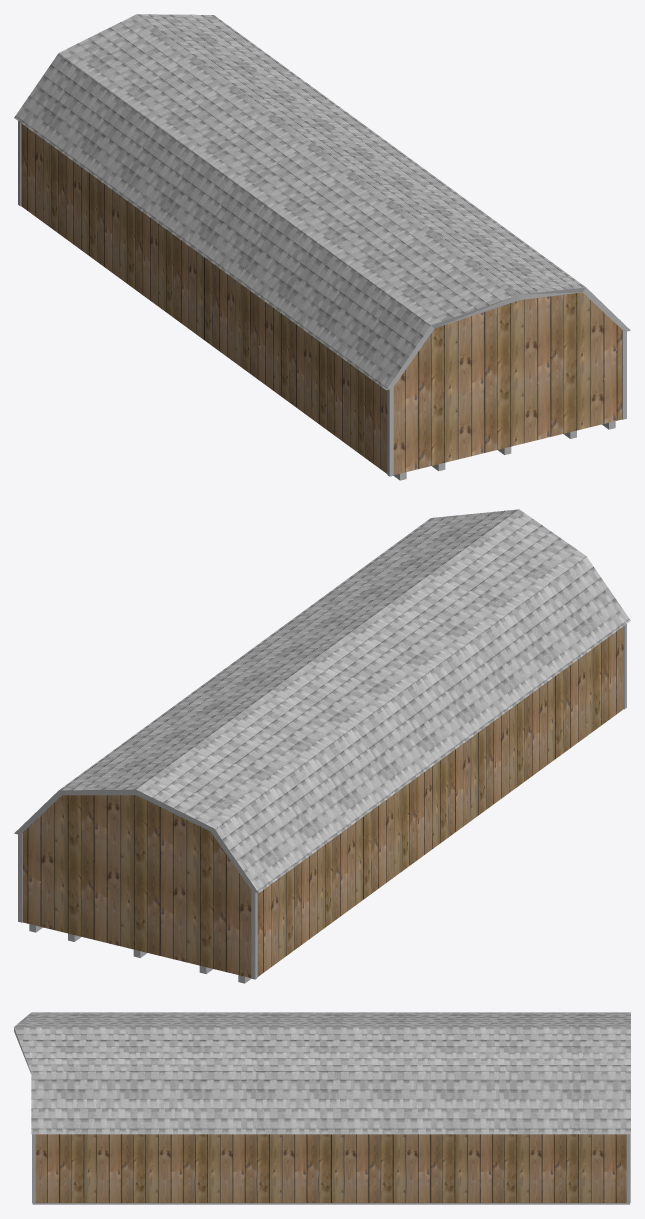
Rendered from Mini Barn Sheds_12x32.obj.
3 views of the same model, one above another, from view 1: azimuth 30°, elevation 25°; view 2: azimuth 150°, elevation 25°; view 3: azimuth 270°, elevation 25° (orthographic). The views are drawn at different scales.
Visible parts, largest first — view 1: Roof, Shed, Sides, Trim; view 2: Roof, Shed, Sides, Trim; view 3: Roof, Shed, Floor, Trim.
Boxes of the visible parts, <box> form: Roof: <box>14,14,585,389</box>; Shed: <box>21,123,622,474</box>; Sides: <box>386,287,630,389</box>; Trim: <box>18,121,626,476</box>; Roof: <box>59,509,630,892</box>; Shed: <box>22,626,623,977</box>; Sides: <box>14,789,258,892</box>; Trim: <box>18,624,626,979</box>; Roof: <box>14,1012,630,1134</box>; Shed: <box>35,1134,626,1202</box>; Floor: <box>32,1203,629,1204</box>; Trim: <box>32,1134,630,1203</box>.
Size of the model in its own units: 3.72 by 2.44 by 10.08.
